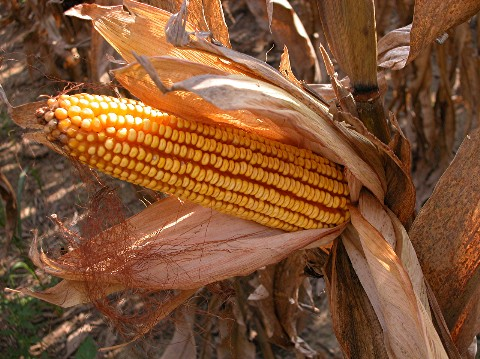corn: (9, 0, 460, 358)
